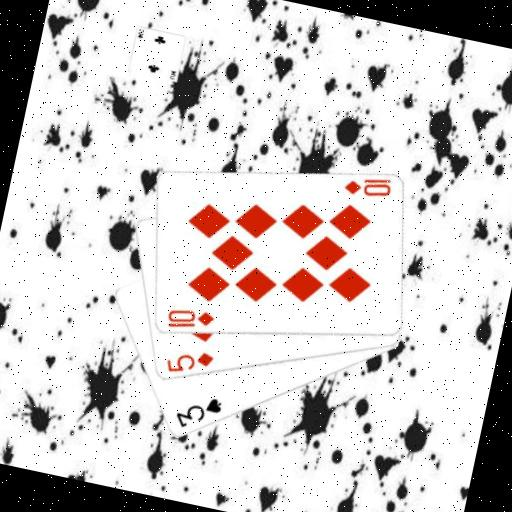10D: (339, 167, 395, 204), (161, 301, 216, 338)
3S: (170, 387, 225, 436)
5D: (160, 341, 216, 382)
